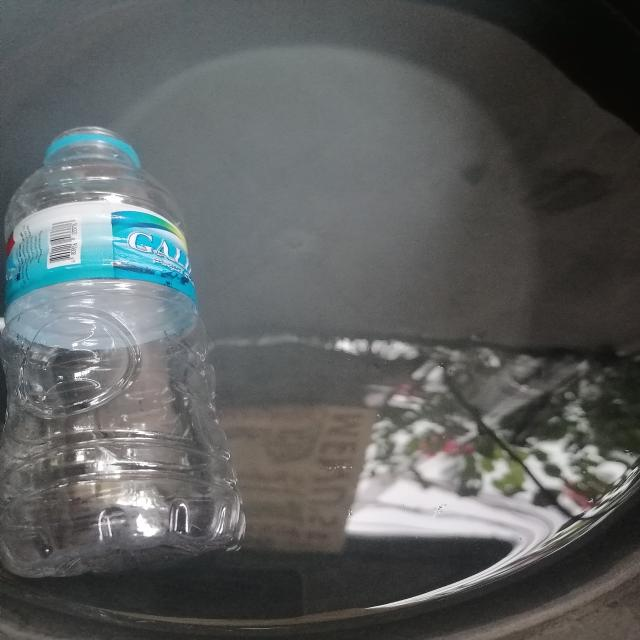Plastic Bottle: (0, 127, 245, 577)
